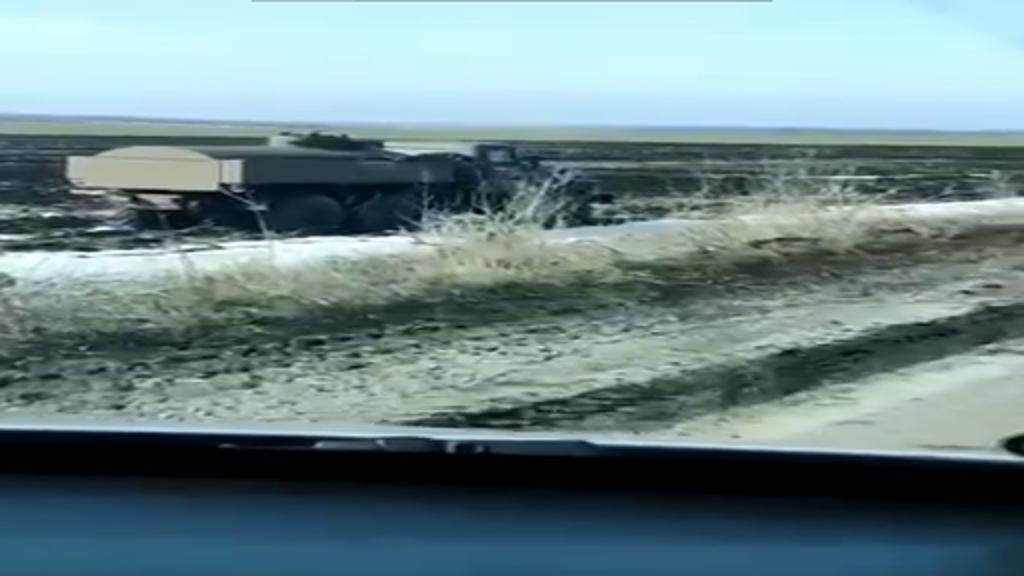TRUCK: (58, 118, 620, 244)
